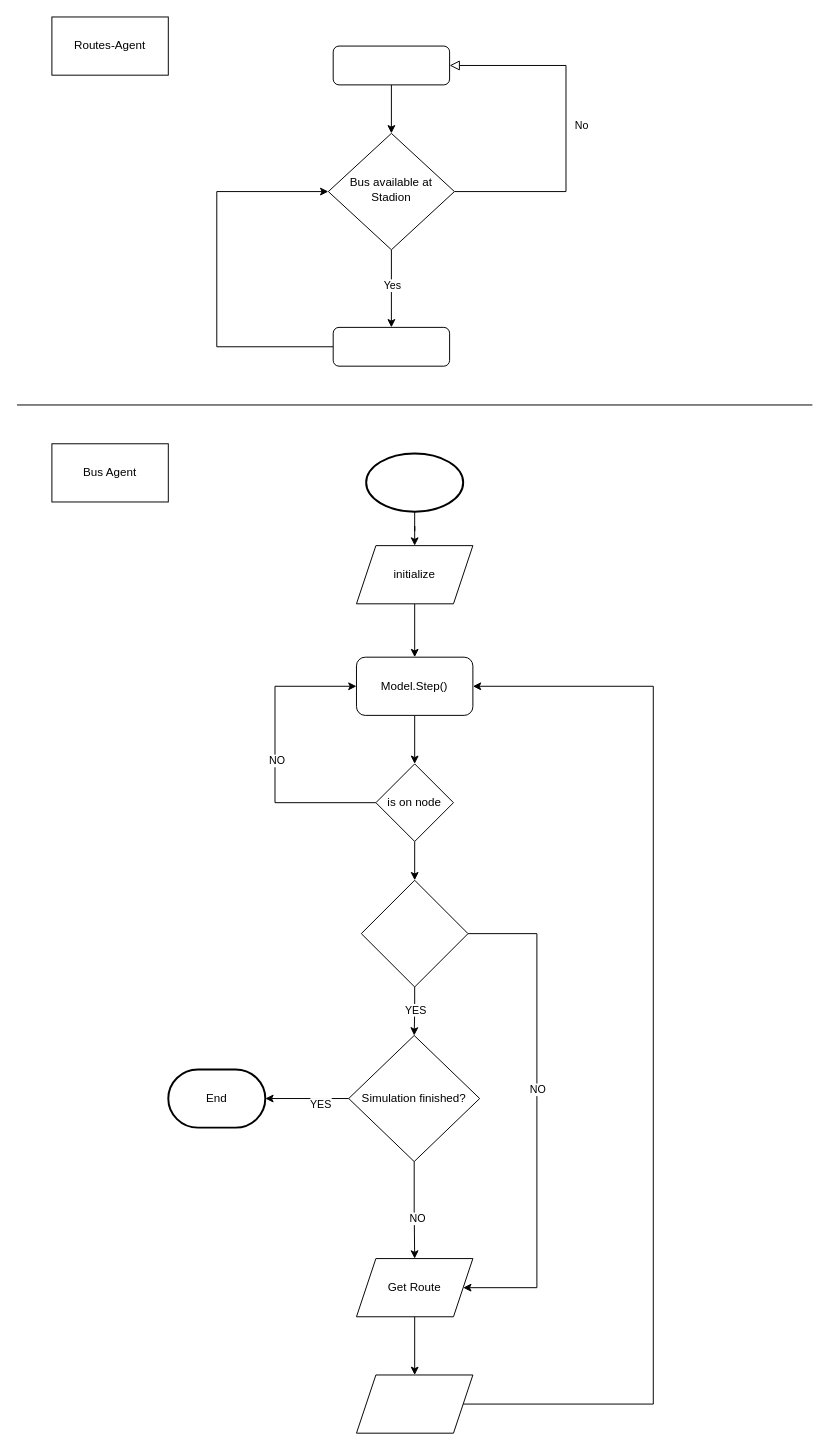
The diagram is 830 pixels wide and 1450 high, and some of its shapes have lost their labels. The shapes that lost their labels are listed below. From the top down, each one's centre as x and y in pixels, then its label:
At [391,65]: "Agent in Idle".
At [391,346]: "Get Route and pass to Bus Agent".
At [414,482]: "Start".
At [414,933]: "is starting node".
At [414,1403]: "Get & Remove Passengers".
